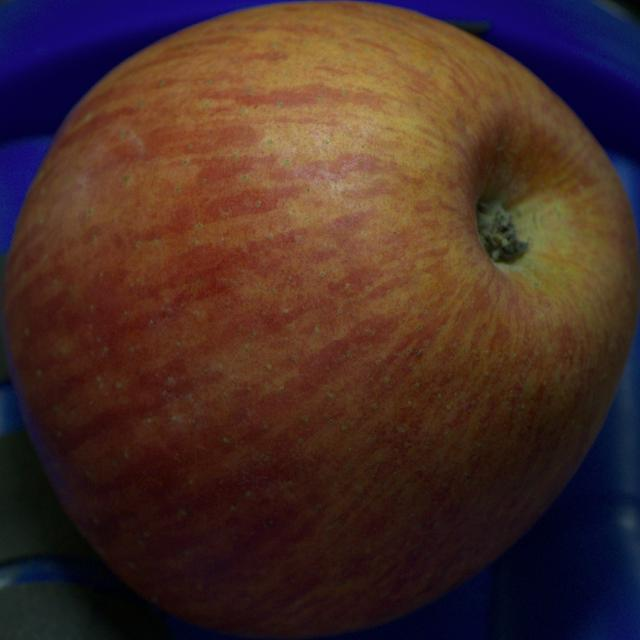apple: (2, 3, 639, 637)
